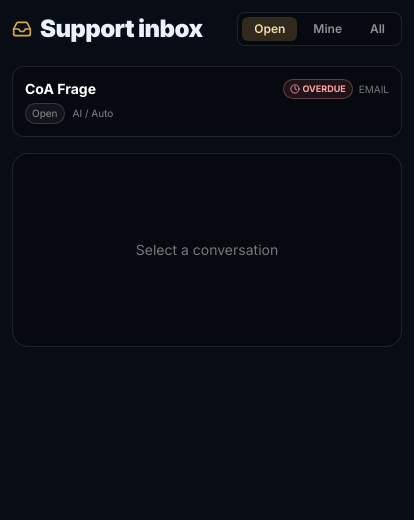
Test: SupportInbox › shows the thread when a conversation is selected
Click the text "CoA Frage".
click(60, 89)  # box x1=25 y1=79 x2=96 y2=99
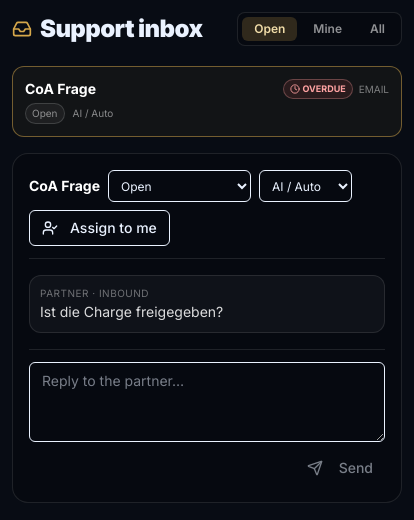
Check: the text "Ist die Charge freigegeben?" is shown, box x1=40 y1=303 x2=223 y2=320
